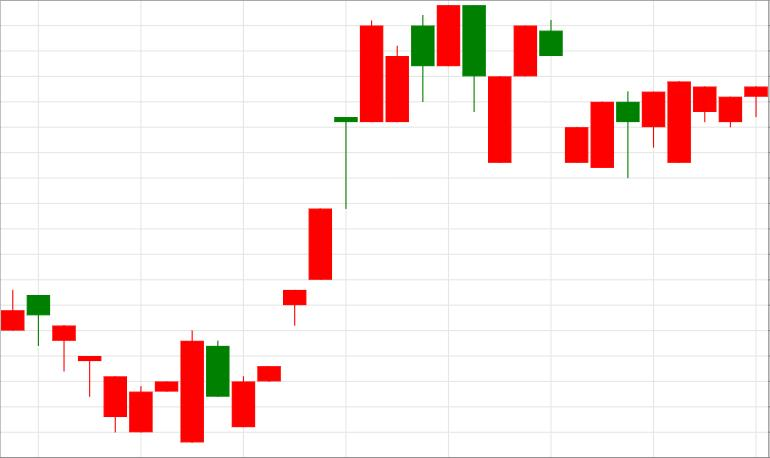bearish_engulfing_fall: (231, 5, 486, 426)
